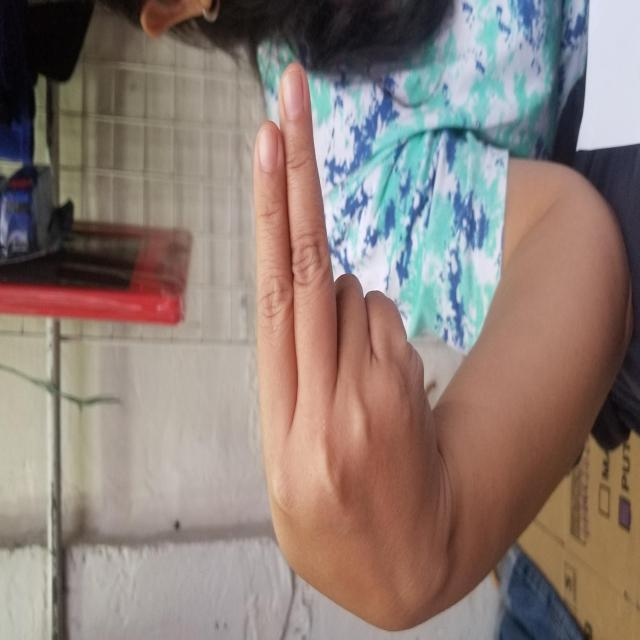H: (8, 254, 581, 442)
